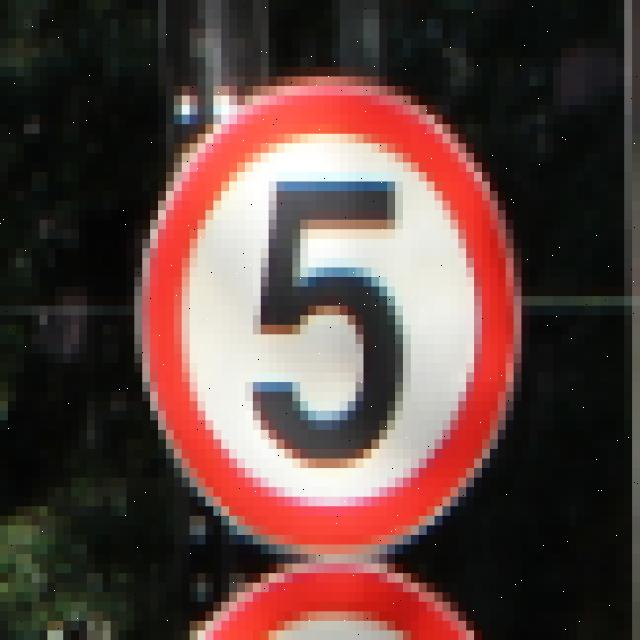speed limit 10: (139, 72, 522, 552)
